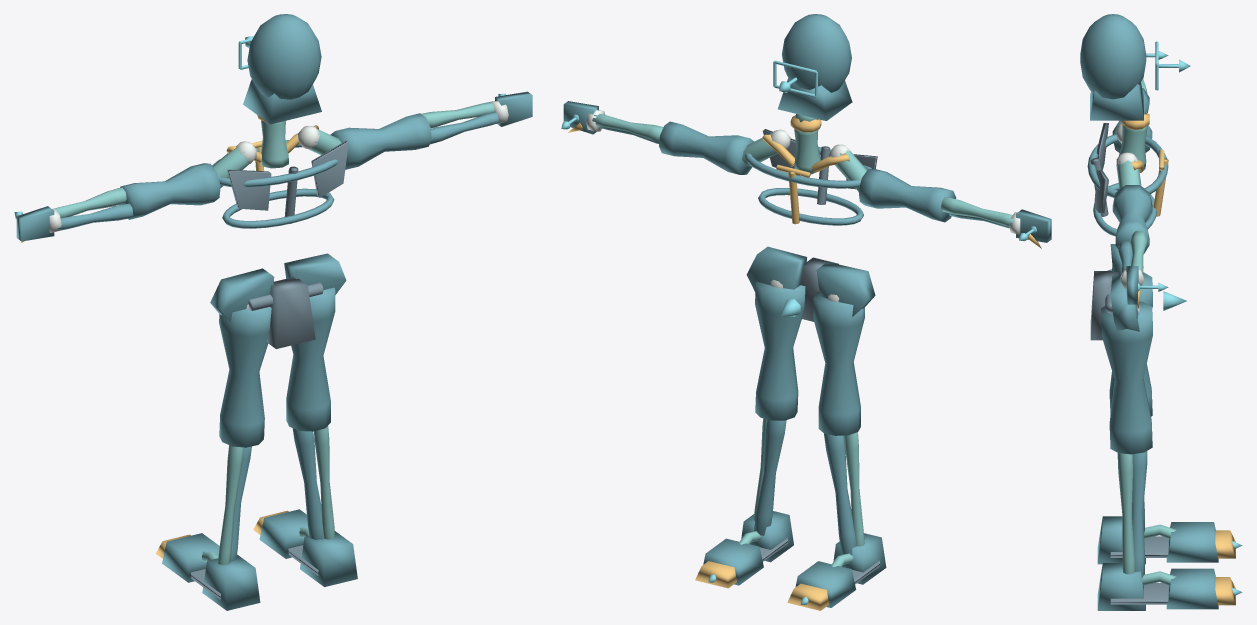
Rendered from hybrid-production-skeleton-static-v1.glb.
The picture shows the model from 3 angles, left to right: view 1: azimuth 30°, elevation 25°; view 2: azimuth 150°, elevation 25°; view 3: azimuth 270°, elevation 25°; orthographic projection. The views are drawn at different scales.
Visible parts, largest first — view 1: head, pelvis, leftThigh, rightThigh, leftFoot, rightFoot, leftUpperArm, rightUpperArm, thorax, rightTibia, leftFibula, rightFibula (+10 smaller); view 2: head, leftThigh, rightThigh, pelvis, rightFoot, leftFoot, thorax, leftUpperArm, rightUpperArm, leftTibia, rightTibia, neck (+5 smaller); view 3: head, rightThigh, rightFoot, leftFoot, pelvis, rightUpperArm, thorax, rightFibula, rightTibia, neck, rightHand, leftThigh (+6 smaller).
Part boxes in pixels (box(x1,y1,x2,y2)): head: box(238, 14, 321, 124); pelvis: box(210, 253, 346, 348); leftThigh: box(219, 307, 271, 447); rightThigh: box(286, 287, 335, 431); leftFoot: box(156, 533, 260, 610); rightFoot: box(253, 509, 357, 586); leftUpperArm: box(119, 146, 250, 219); rightUpperArm: box(308, 113, 431, 169); thorax: box(212, 140, 338, 228); rightTibia: box(292, 428, 324, 539); leftFibula: box(218, 445, 243, 565); rightFibula: box(314, 425, 335, 539); head: box(773, 14, 852, 120); leftThigh: box(813, 291, 864, 435); rightThigh: box(755, 281, 805, 420); pelvis: box(746, 246, 875, 321); rightFoot: box(695, 511, 793, 588); leftFoot: box(787, 533, 886, 610); thorax: box(744, 146, 871, 225); leftUpperArm: box(835, 150, 956, 222); rightUpperArm: box(659, 121, 777, 174); leftTibia: box(824, 433, 856, 555); rightTibia: box(754, 419, 786, 535); neck: box(790, 114, 821, 174); head: box(1080, 14, 1190, 120); rightThigh: box(1101, 301, 1152, 454); rightFoot: box(1097, 563, 1242, 610); leftFoot: box(1097, 516, 1242, 564); pelvis: box(1090, 244, 1186, 340); rightUpperArm: box(1112, 159, 1152, 253); thorax: box(1087, 134, 1168, 236); rightFibula: box(1117, 453, 1134, 574); rightTibia: box(1132, 451, 1147, 578); neck: box(1118, 108, 1149, 172); rightHand: box(1120, 266, 1168, 308); leftThigh: box(1109, 272, 1152, 416).
Size of the model in its own units: 1.68 by 1.8 by 0.4705.
